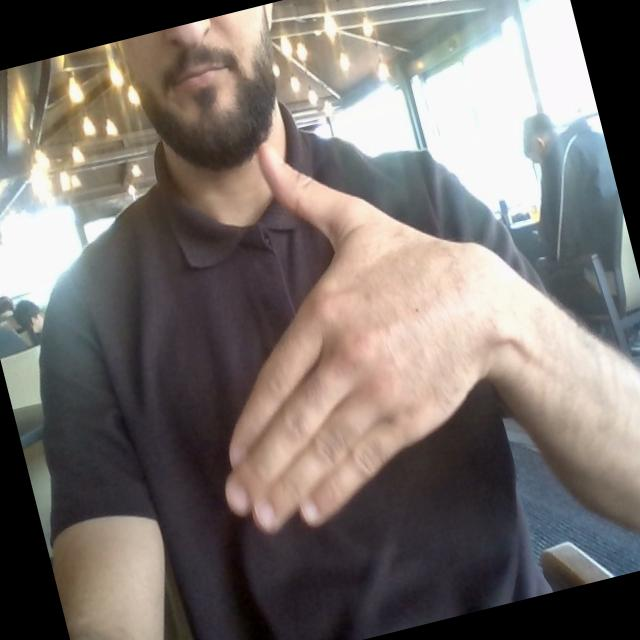Hand: (226, 147, 498, 532)
